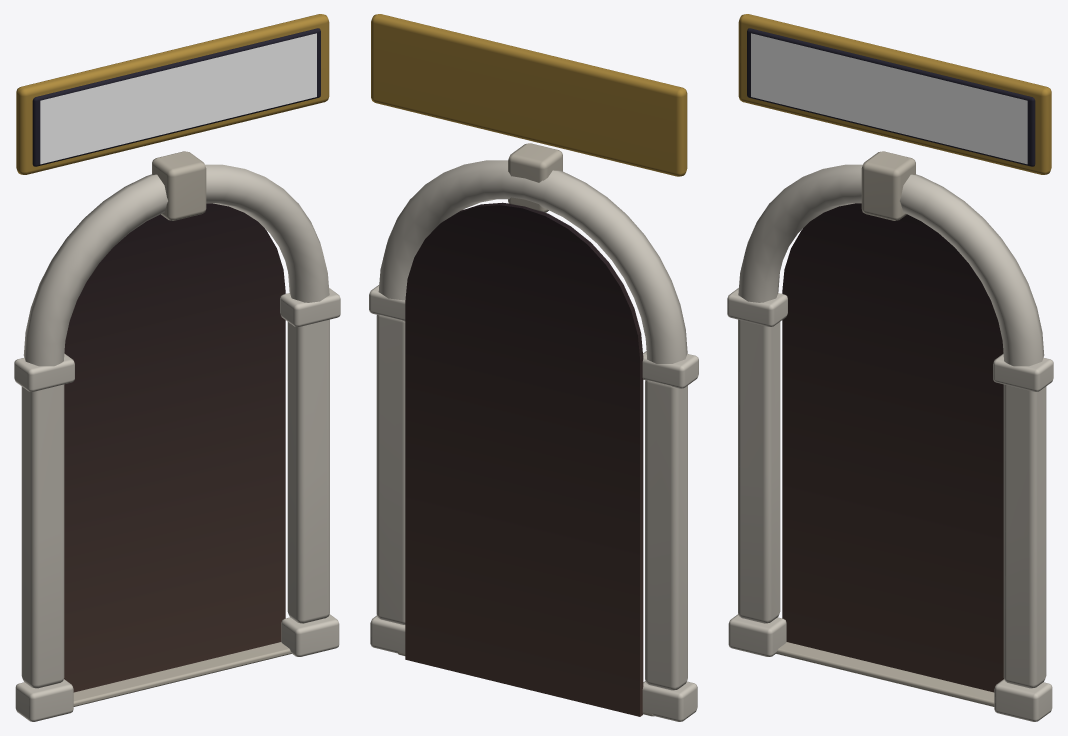
Rendered from furn_museum_arch.glb.
3 renders of one model, left to right at view 1: azimuth 30°, elevation 25°; view 2: azimuth 150°, elevation 25°; view 3: azimuth 330°, elevation 25°, orthographic.
Parts seen in each view (by area): view 1: furn_museum_arch_main, furn_museum_arch_pic; view 2: furn_museum_arch_main; view 3: furn_museum_arch_main, furn_museum_arch_pic.
Boxes of the visible parts, x1=… form: furn_museum_arch_main: x1=14, y1=14, x2=340, y2=721; furn_museum_arch_pic: x1=40, y1=33, x2=316, y2=164; furn_museum_arch_main: x1=369, y1=14, x2=698, y2=721; furn_museum_arch_main: x1=727, y1=14, x2=1053, y2=721; furn_museum_arch_pic: x1=751, y1=33, x2=1027, y2=164.
Size of the model in its own units: 1.13 by 2.16 by 0.145.
